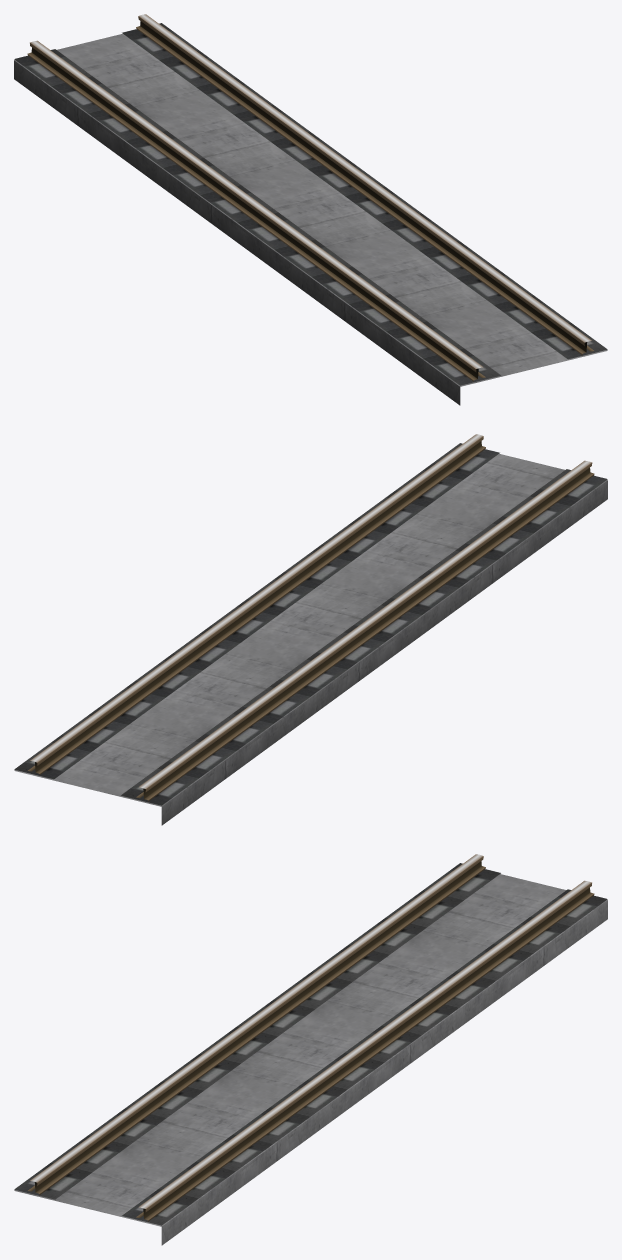
File: SIN_1RAIL_25_CHIKA.glb
The picture shows the model from 3 angles, top to bottom: view 1: azimuth 30°, elevation 25°; view 2: azimuth 150°, elevation 25°; view 3: azimuth 330°, elevation 25°; orthographic projection.
Parts seen in each view (by area): view 1: obj21; view 2: obj21; view 3: obj21.
Boxes of the visible parts, x1=… form: obj21: x1=14, y1=14, x2=607, y2=405; obj21: x1=14, y1=434, x2=607, y2=825; obj21: x1=14, y1=854, x2=607, y2=1245.
Size of the model in its own units: 4.78 by 1.02 by 25.
4 materials, 3 textured.
